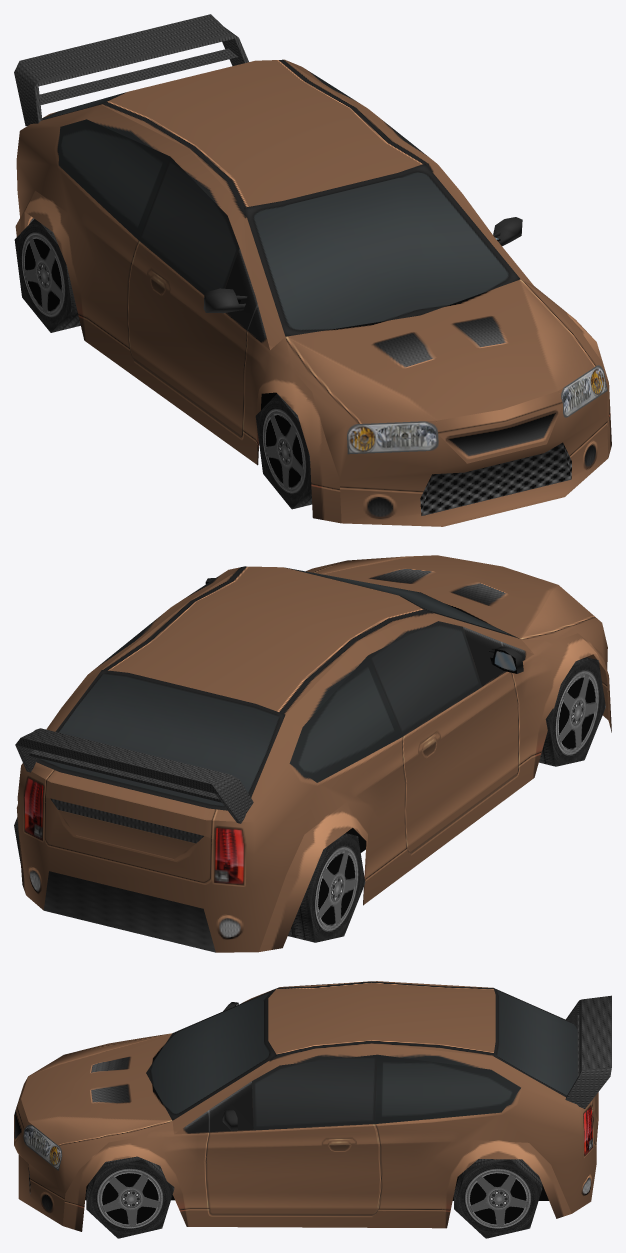
Rendered from StreetPerformanceCar_LOD2.fbx.
3 views of the same model, one above another, from view 1: azimuth 30°, elevation 25°; view 2: azimuth 150°, elevation 25°; view 3: azimuth 270°, elevation 25° (orthographic). The views are drawn at different scales.
Visible parts, largest first — view 1: Chassis, RR_Wheel, RF_Wheel; view 2: Chassis, RR_Wheel, RF_Wheel; view 3: Chassis, LR_Wheel, LF_Wheel.
Boxes of the visible parts, bbox=[...] form: Chassis: bbox=[14, 14, 611, 526]; RR_Wheel: bbox=[14, 219, 80, 332]; RF_Wheel: bbox=[255, 393, 312, 509]; Chassis: bbox=[15, 555, 611, 952]; RR_Wheel: bbox=[288, 833, 365, 942]; RF_Wheel: bbox=[539, 657, 605, 766]; Chassis: bbox=[14, 981, 611, 1231]; LR_Wheel: bbox=[454, 1159, 542, 1238]; LF_Wheel: bbox=[86, 1156, 174, 1238].
Size of the model in its own units: 2.27 by 1.57 by 4.87.
Materials: 2 (2 with a texture image).
